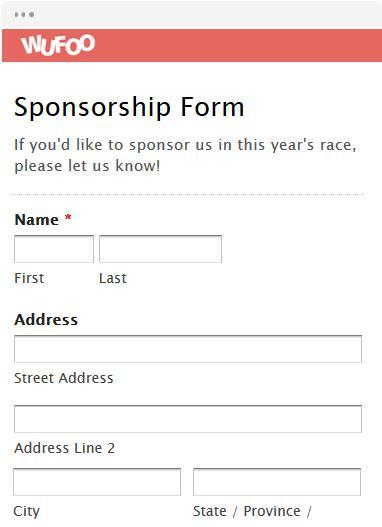input: (14, 405, 364, 431), (16, 337, 364, 362), (195, 468, 363, 494), (13, 471, 184, 495), (99, 237, 224, 265), (14, 238, 94, 264)
label: (9, 93, 248, 122), (189, 502, 319, 525), (9, 440, 124, 460), (12, 369, 121, 389), (9, 309, 87, 334), (14, 210, 81, 230), (90, 268, 132, 291), (12, 268, 52, 290), (9, 501, 49, 519)
